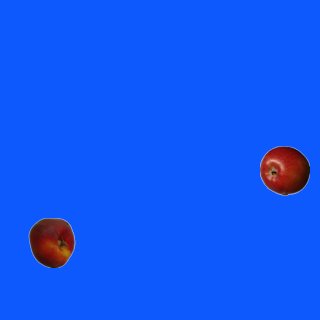Apple Braeburn: (259, 145, 309, 195)
Nectarine Flat: (26, 217, 76, 267)
